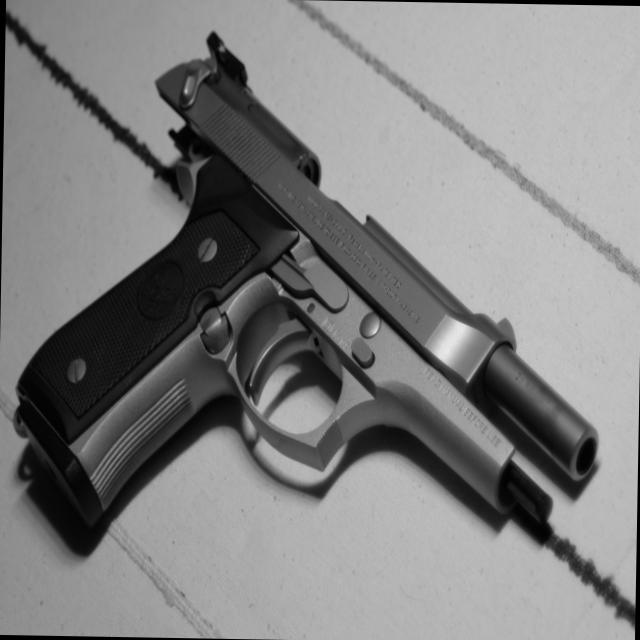Gun: (14, 26, 616, 640)
